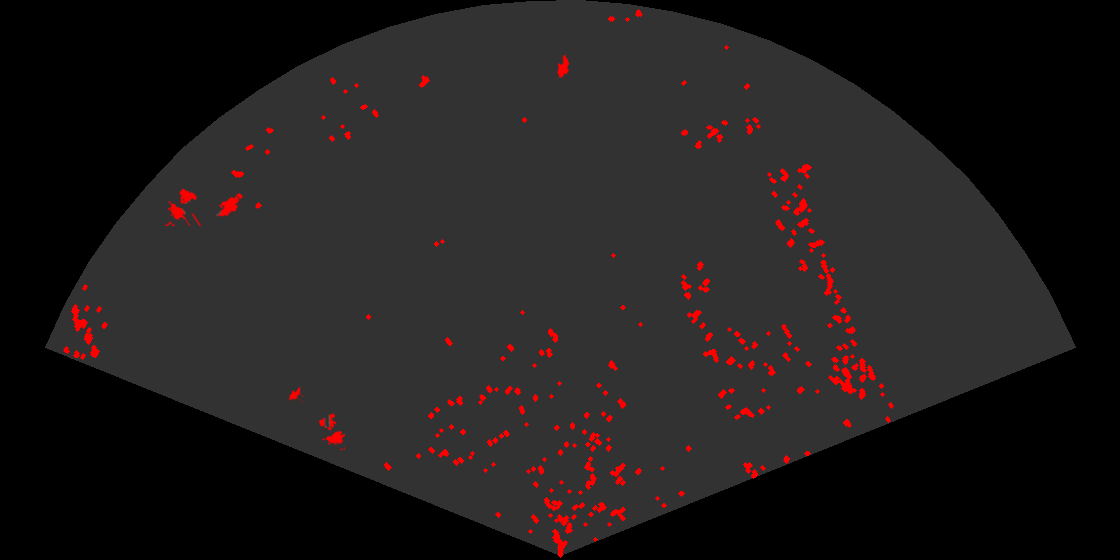AUV: (215, 195, 241, 218), (555, 53, 570, 79), (287, 385, 304, 404)
cage: (163, 187, 203, 226), (317, 412, 345, 450)
